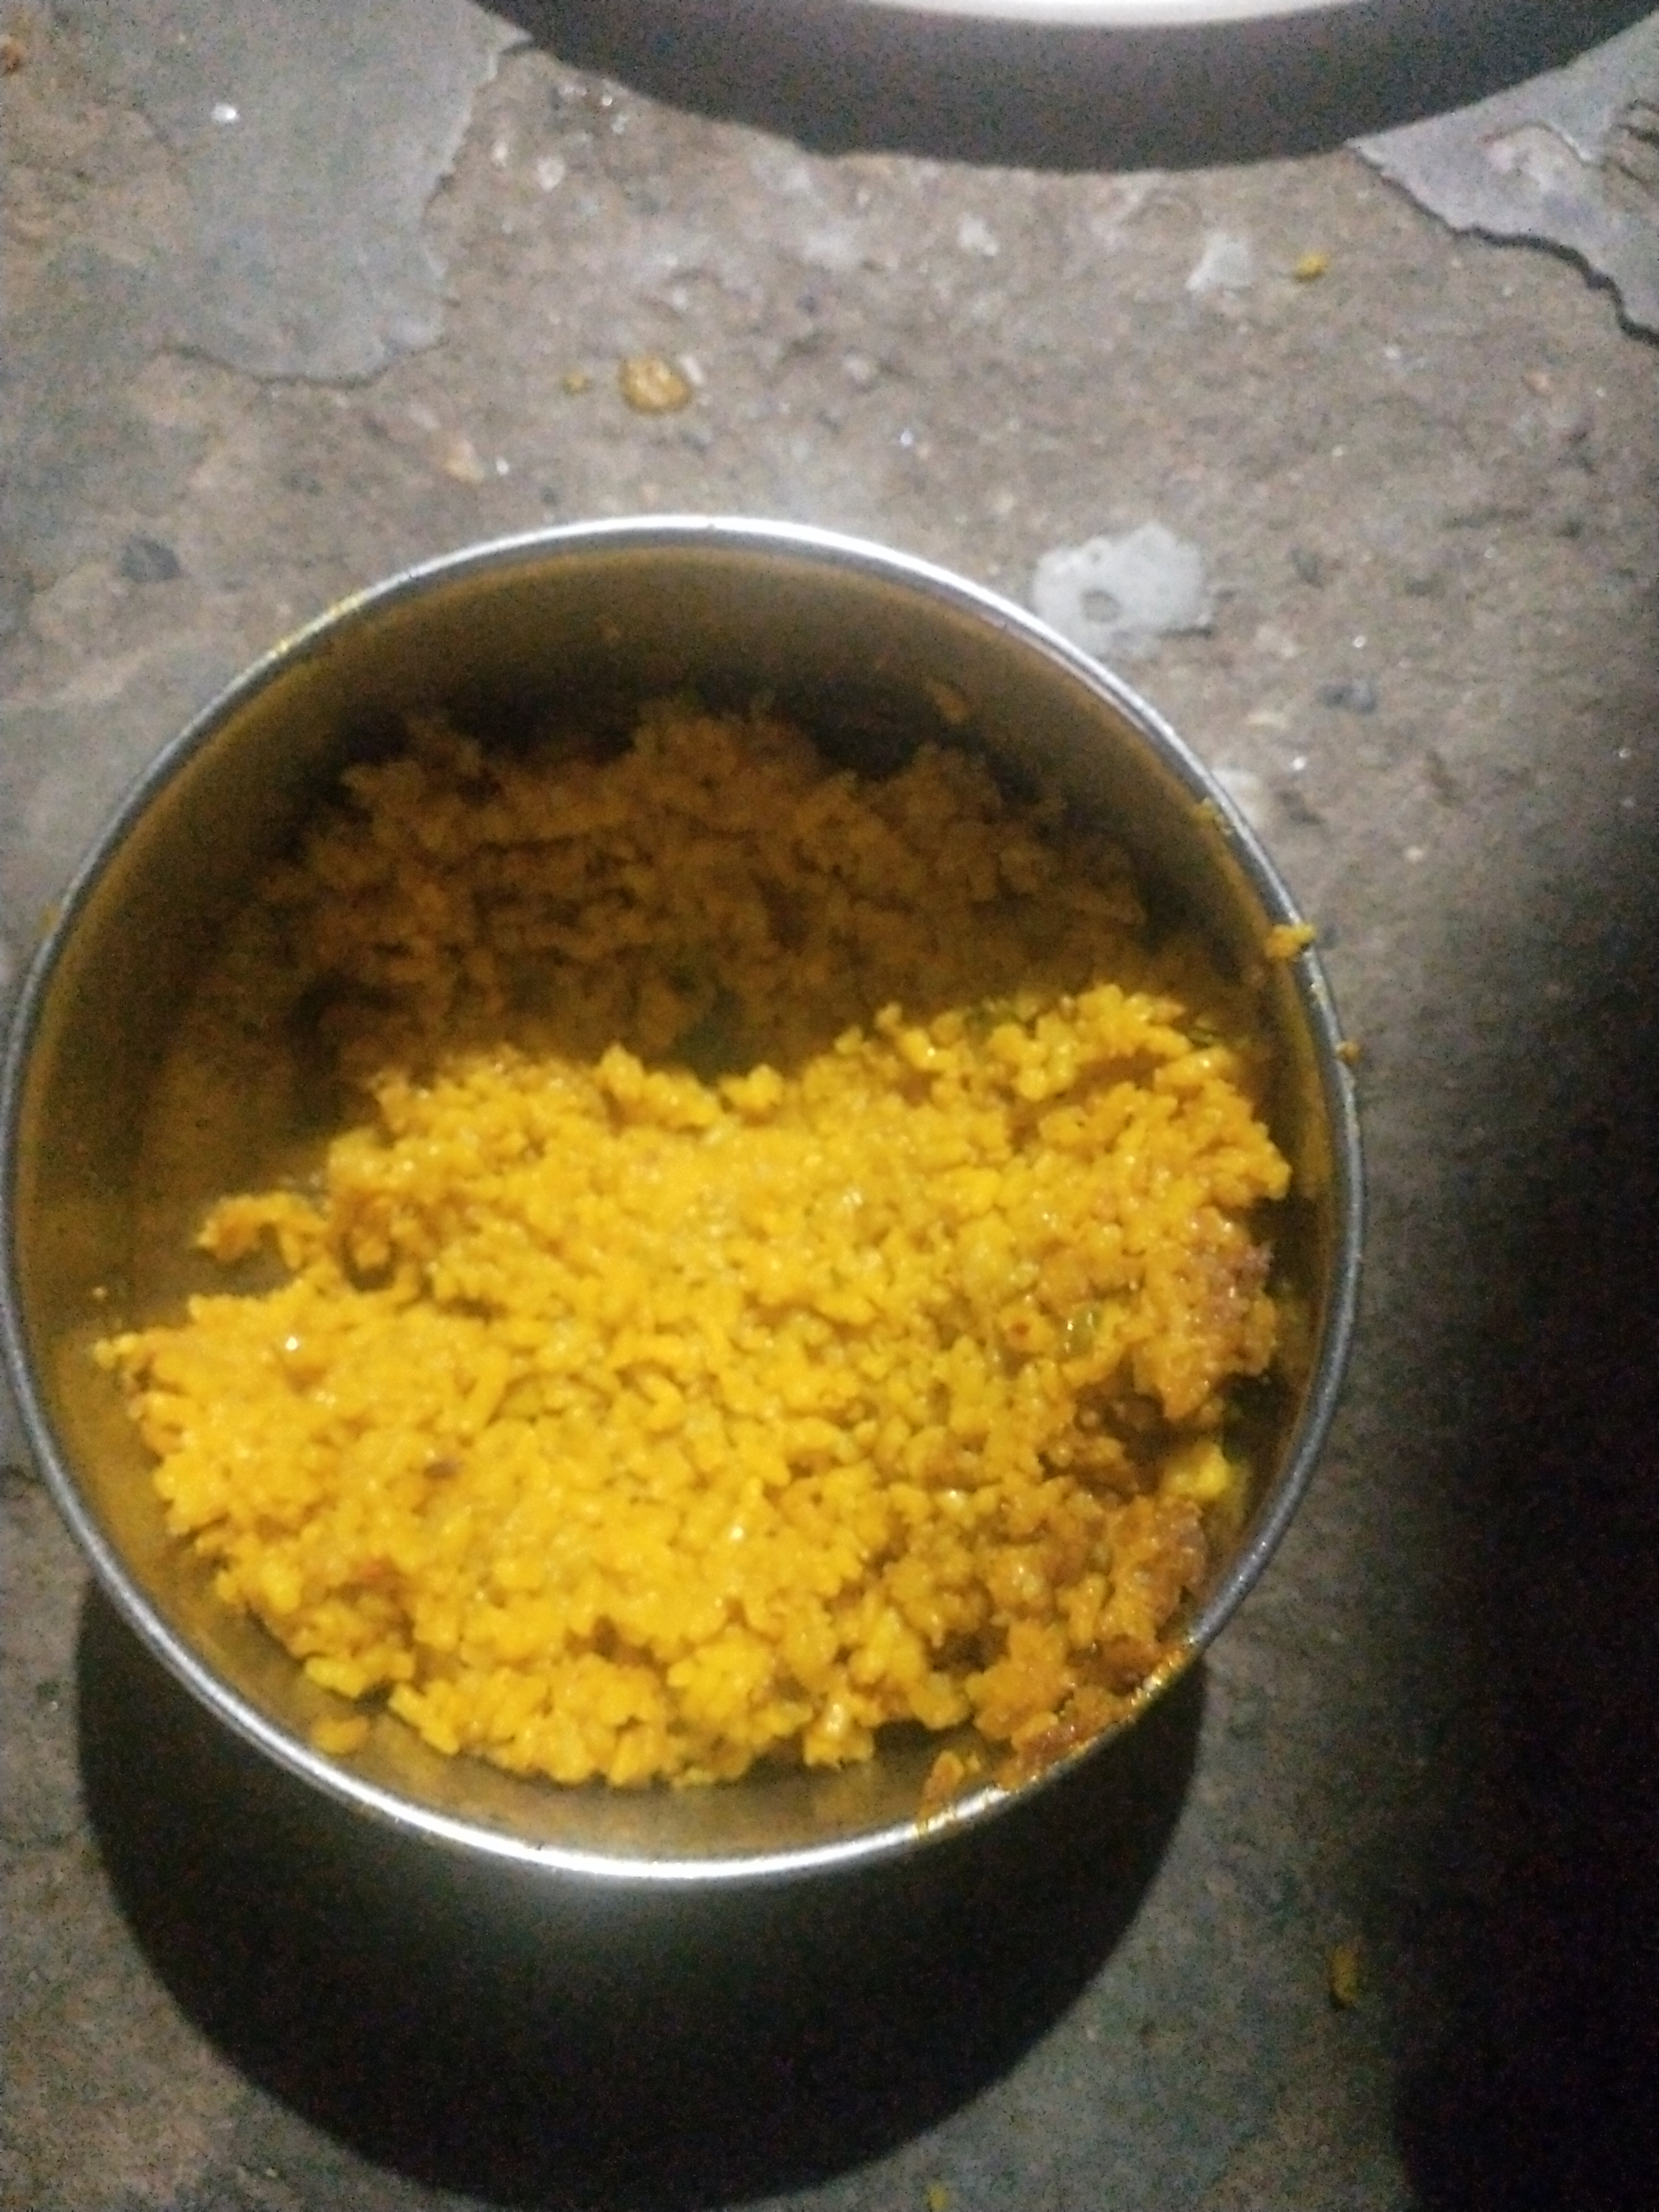food: (75, 648, 1309, 1832)
